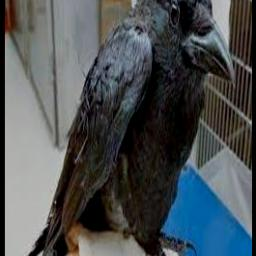Crow: (25, 0, 235, 256)
